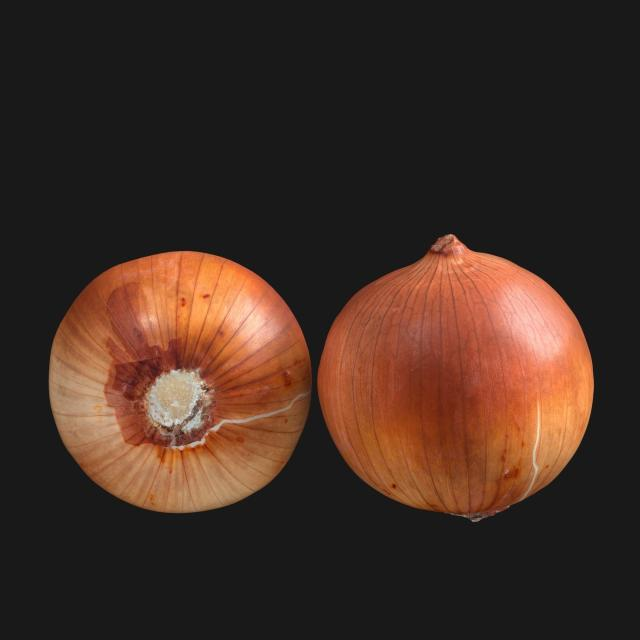Onion: (317, 229, 596, 520), (45, 250, 313, 512)
